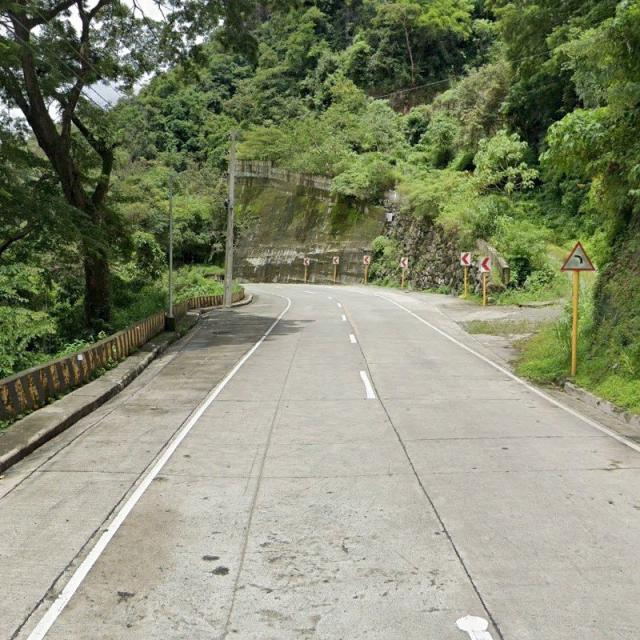warn_left_curve: (560, 241, 596, 271)
